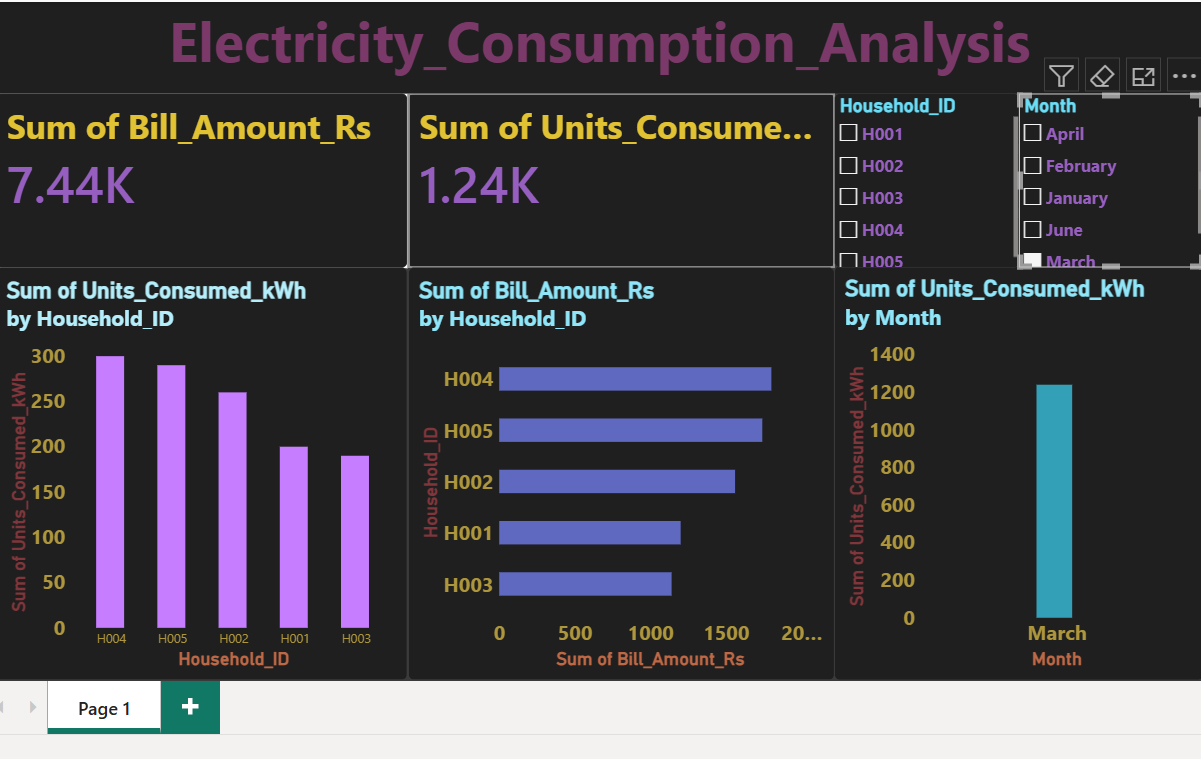

The dashboard page shown, as its layout file describes it:
{"tool":"powerbi","page":{"name":"Page 1","canvas":[1920,1080],"ordinal":0},"visuals":[{"type":"cardVisual","fields":{"Data":["Sum(Sheet1.Bill_Amount_Rs)"]},"box":[0,145.5,654.8,277.8],"z":0},{"type":"cardVisual","fields":{"Data":["Sum(Sheet1.Units_Consumed_kWh)"]},"box":[656.1,145.5,677.5,277.8],"z":1000},{"type":"clusteredBarChart","fields":{"Category":["Sheet1.Household_ID"],"Y":["Sum(Sheet1.Bill_Amount_Rs)"]},"box":[656.1,422.3,677.6,656.1],"z":2000},{"type":"columnChart","fields":{"Category":["Sheet1.Month"],"Y":["Sum(Sheet1.Units_Consumed_kWh)"]},"box":[1333.7,419.9,586.9,658.5],"z":3000},{"type":"columnChart","fields":{"Category":["Sheet1.Household_ID"],"Y":["Sum(Sheet1.Units_Consumed_kWh)"]},"box":[0,422.3,653.7,656.1],"z":4000},{"type":"slicer","fields":{"Values":["Sheet1.Household_ID"]},"box":[1333.7,145.5,293.5,276.8],"z":5000},{"type":"slicer","fields":{"Values":["Sheet1.Month"]},"box":[1627.2,145.5,293.5,276.8],"z":6000},{"type":"textbox","box":[0,0,1920.7,145.5],"z":7000}]}

Visuals, with their boxes on the page's 1920x1080 design canvas (x1, y1, x2, y2). These are canvas units, not pixel positions in the 1201x759 screenshot, which may show the page scaled, cropped or inside an application window:
cardVisual - Sum(Sheet1.Bill_Amount_Rs): x1=0 y1=146 x2=655 y2=423
cardVisual - Sum(Sheet1.Units_Consumed_kWh): x1=656 y1=146 x2=1334 y2=423
clusteredBarChart - Sheet1.Household_ID x Sum(Sheet1.Bill_Amount_Rs): x1=656 y1=422 x2=1334 y2=1078
columnChart - Sheet1.Month x Sum(Sheet1.Units_Consumed_kWh): x1=1334 y1=420 x2=1921 y2=1078
columnChart - Sheet1.Household_ID x Sum(Sheet1.Units_Consumed_kWh): x1=0 y1=422 x2=654 y2=1078
slicer - Sheet1.Household_ID: x1=1334 y1=146 x2=1627 y2=422
slicer - Sheet1.Month: x1=1627 y1=146 x2=1921 y2=422
textbox: x1=0 y1=0 x2=1921 y2=146
